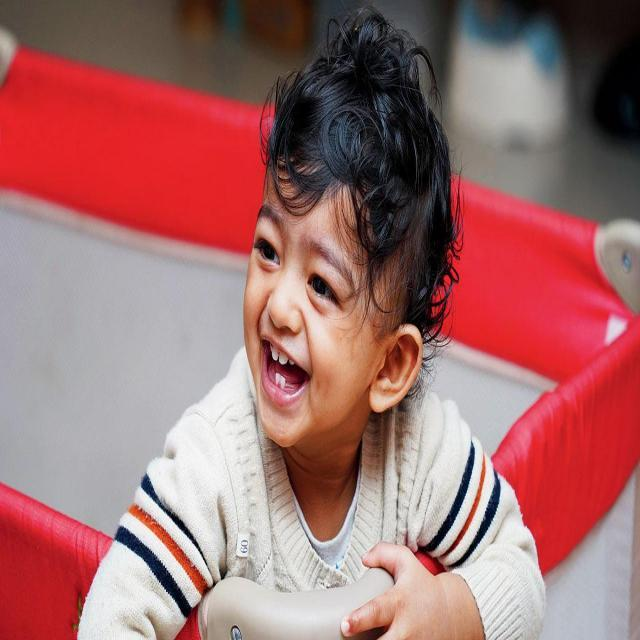non-dog: (72, 5, 549, 635)
